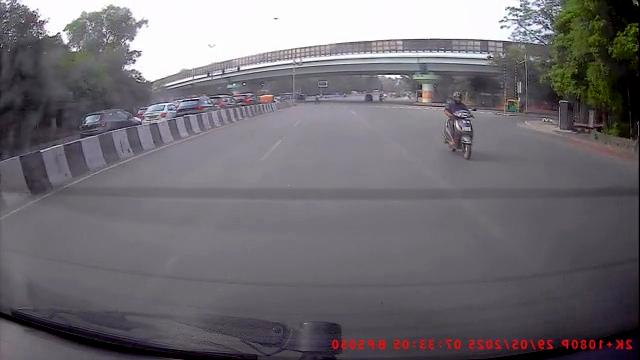motorcycle_with_helmet: (441, 90, 476, 162)
